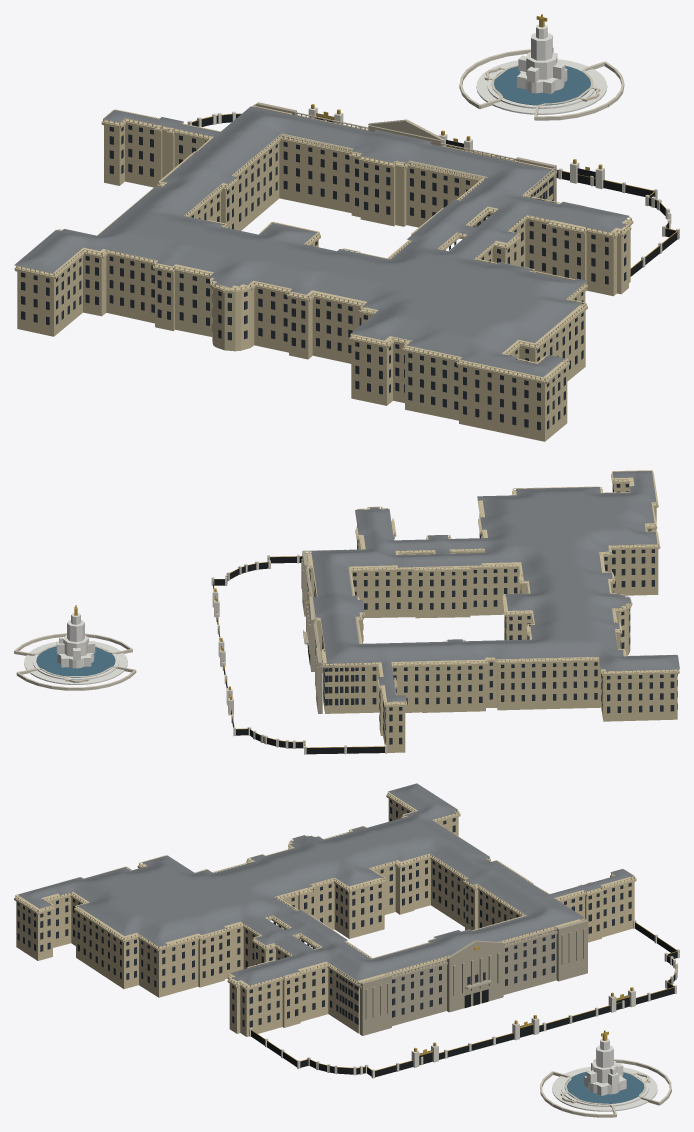
The model's file is buckingham-site-b85.glb.
3 renders of one model, top to bottom at view 1: azimuth 30°, elevation 25°; view 2: azimuth 150°, elevation 25°; view 3: azimuth 270°, elevation 25°, orthographic. The views are drawn at different scales.
Size of the model in its own units: 265 by 27.71 by 264.
